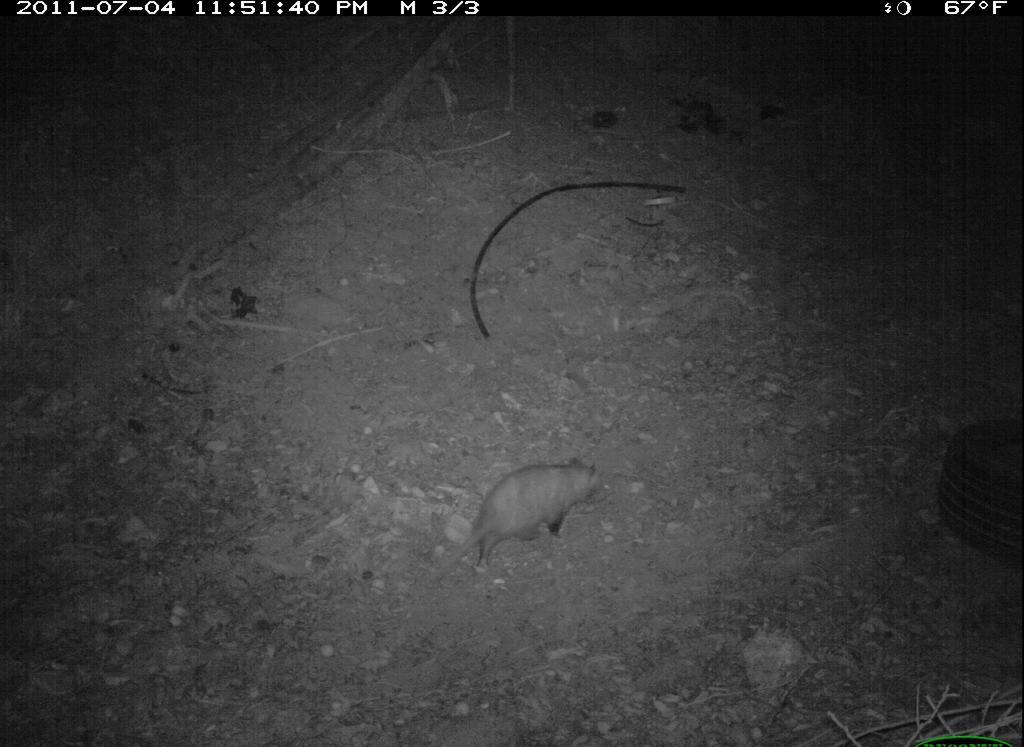opossum: (454, 428, 612, 577)
